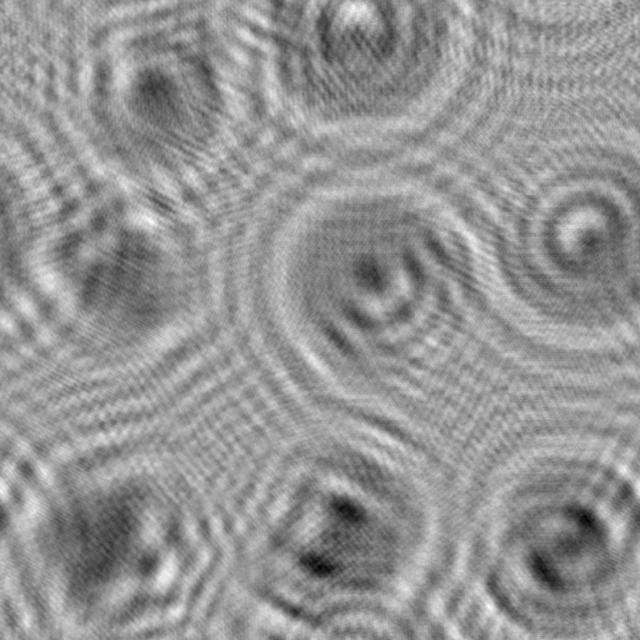C: (450, 116, 640, 375)
E: (218, 398, 460, 640)
J: (41, 0, 269, 191)
K: (0, 423, 249, 640)
O: (224, 0, 491, 170)
S: (433, 404, 640, 640)
T: (0, 144, 246, 391)
U: (230, 137, 493, 412)
